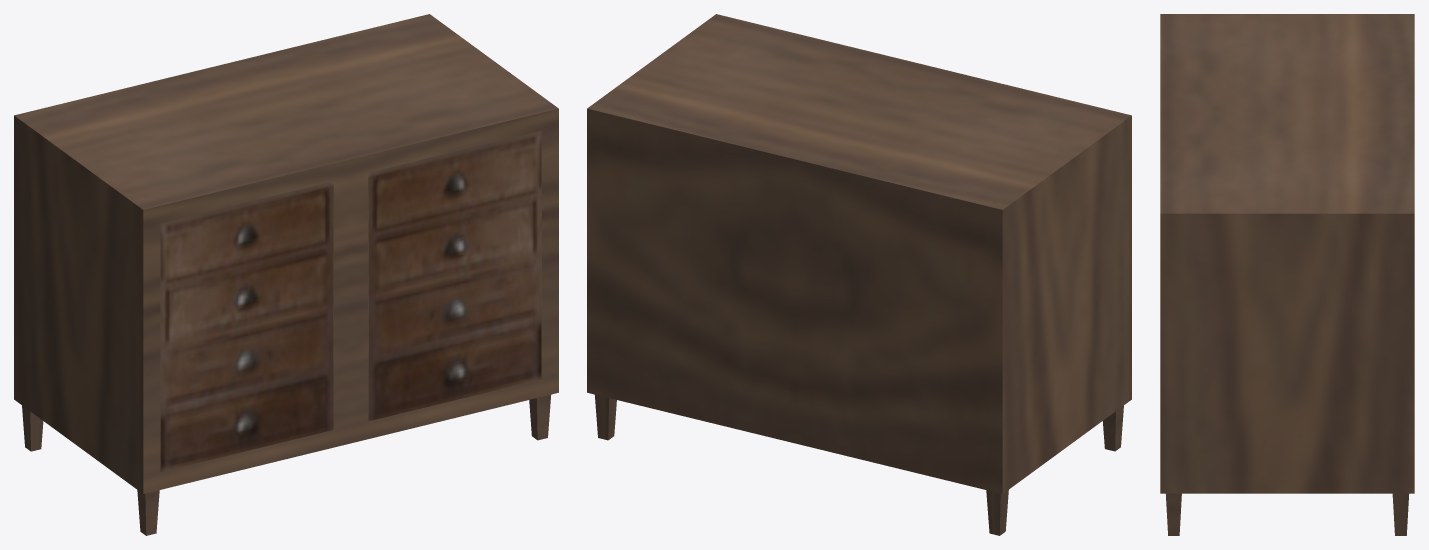
File: Commode.fbx
The picture shows the model from 3 angles, left to right: view 1: azimuth 30°, elevation 25°; view 2: azimuth 150°, elevation 25°; view 3: azimuth 270°, elevation 25°; orthographic projection.
Parts seen in each view (by area): view 1: Cube; view 2: Cube; view 3: Cube.
Boxes of the visible parts, left/top/right/bottom form: Cube: left=14, top=14, right=558, bottom=535; Cube: left=587, top=14, right=1131, bottom=535; Cube: left=1160, top=14, right=1414, bottom=535.
Size of the model in its own units: 567 by 431 by 305.
